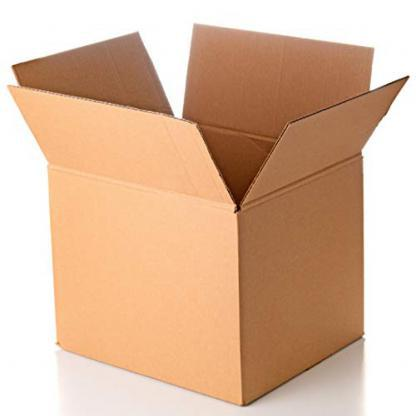box: (6, 22, 410, 407)
opened: (7, 21, 409, 209)
